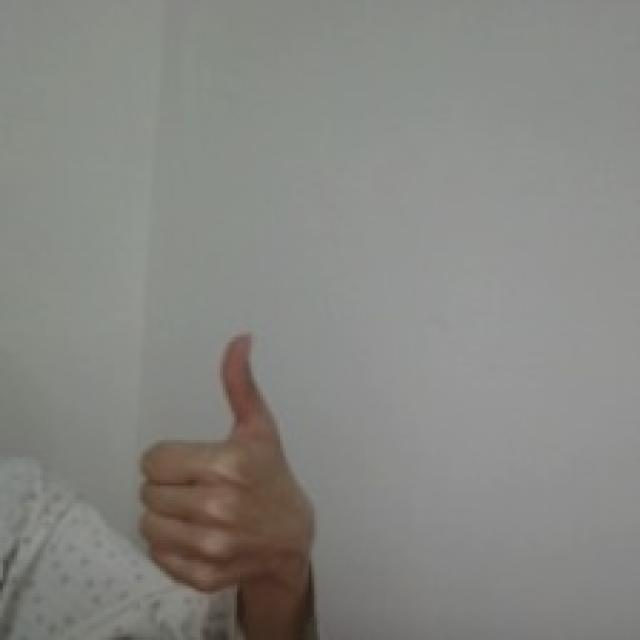fine: (131, 320, 318, 598)
